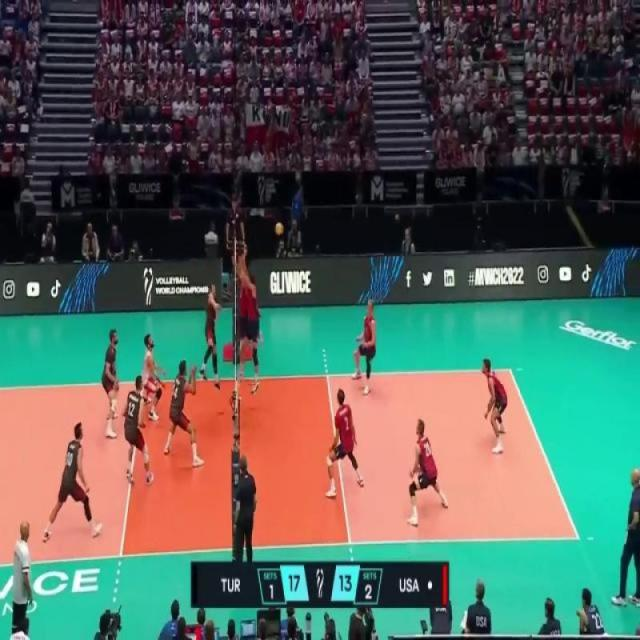volleyball: (273, 218, 284, 238), (394, 212, 401, 222)
